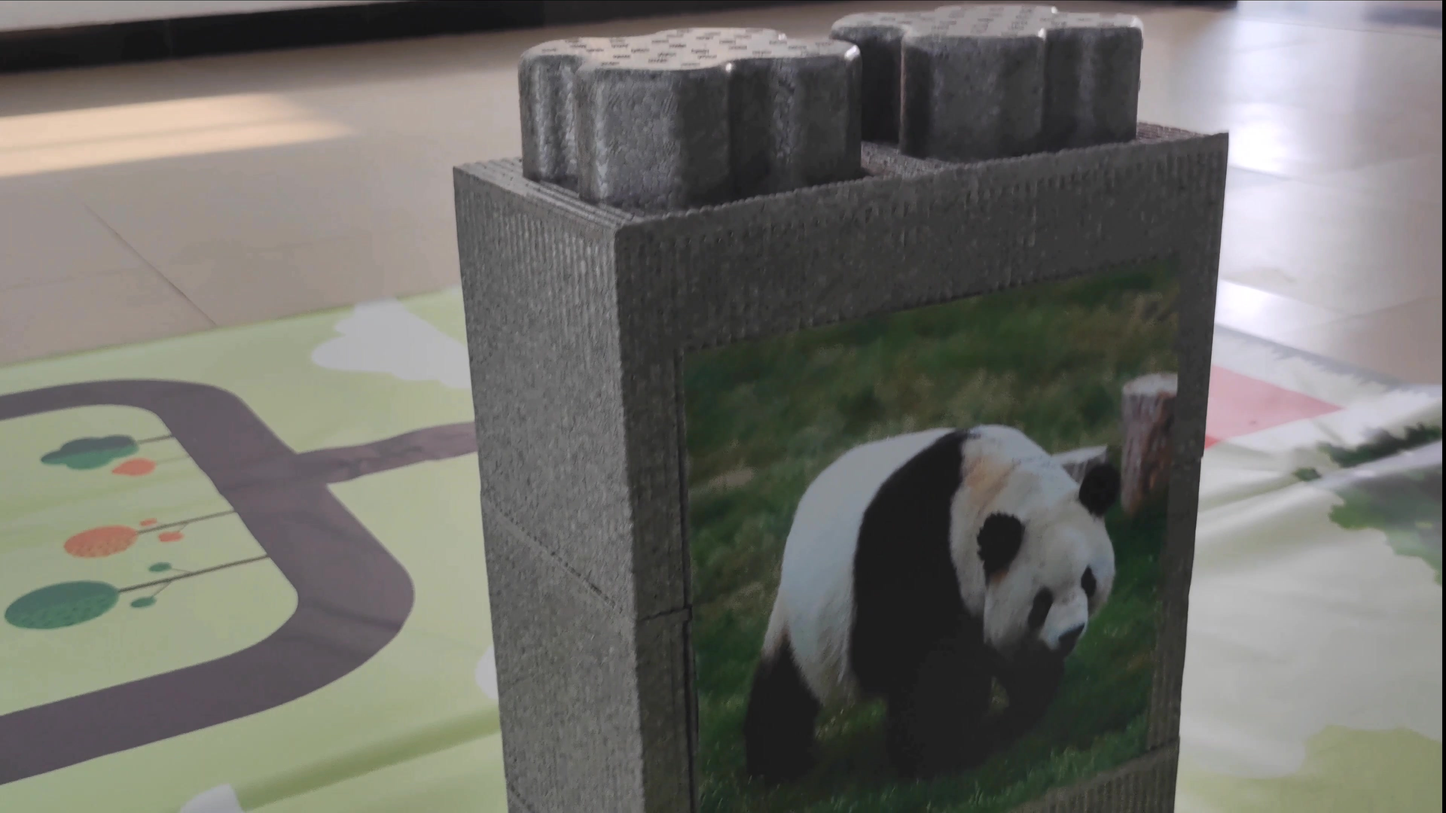panda: (736, 420, 1148, 774)
